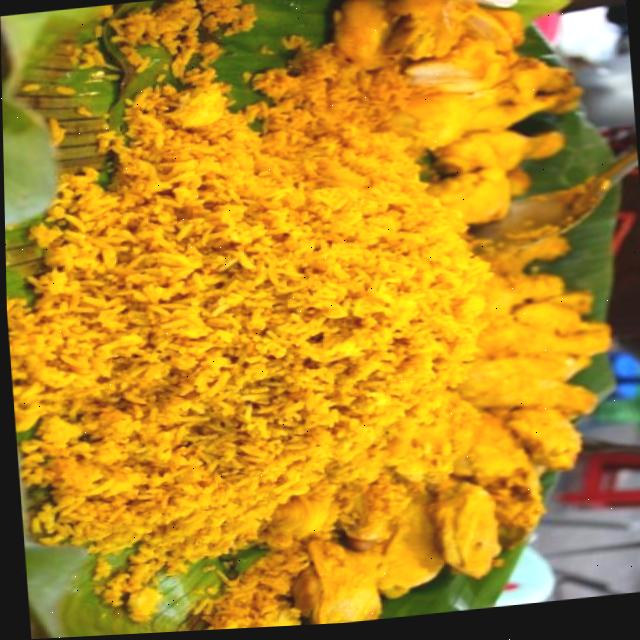米饭主食: (7, 0, 640, 640)
